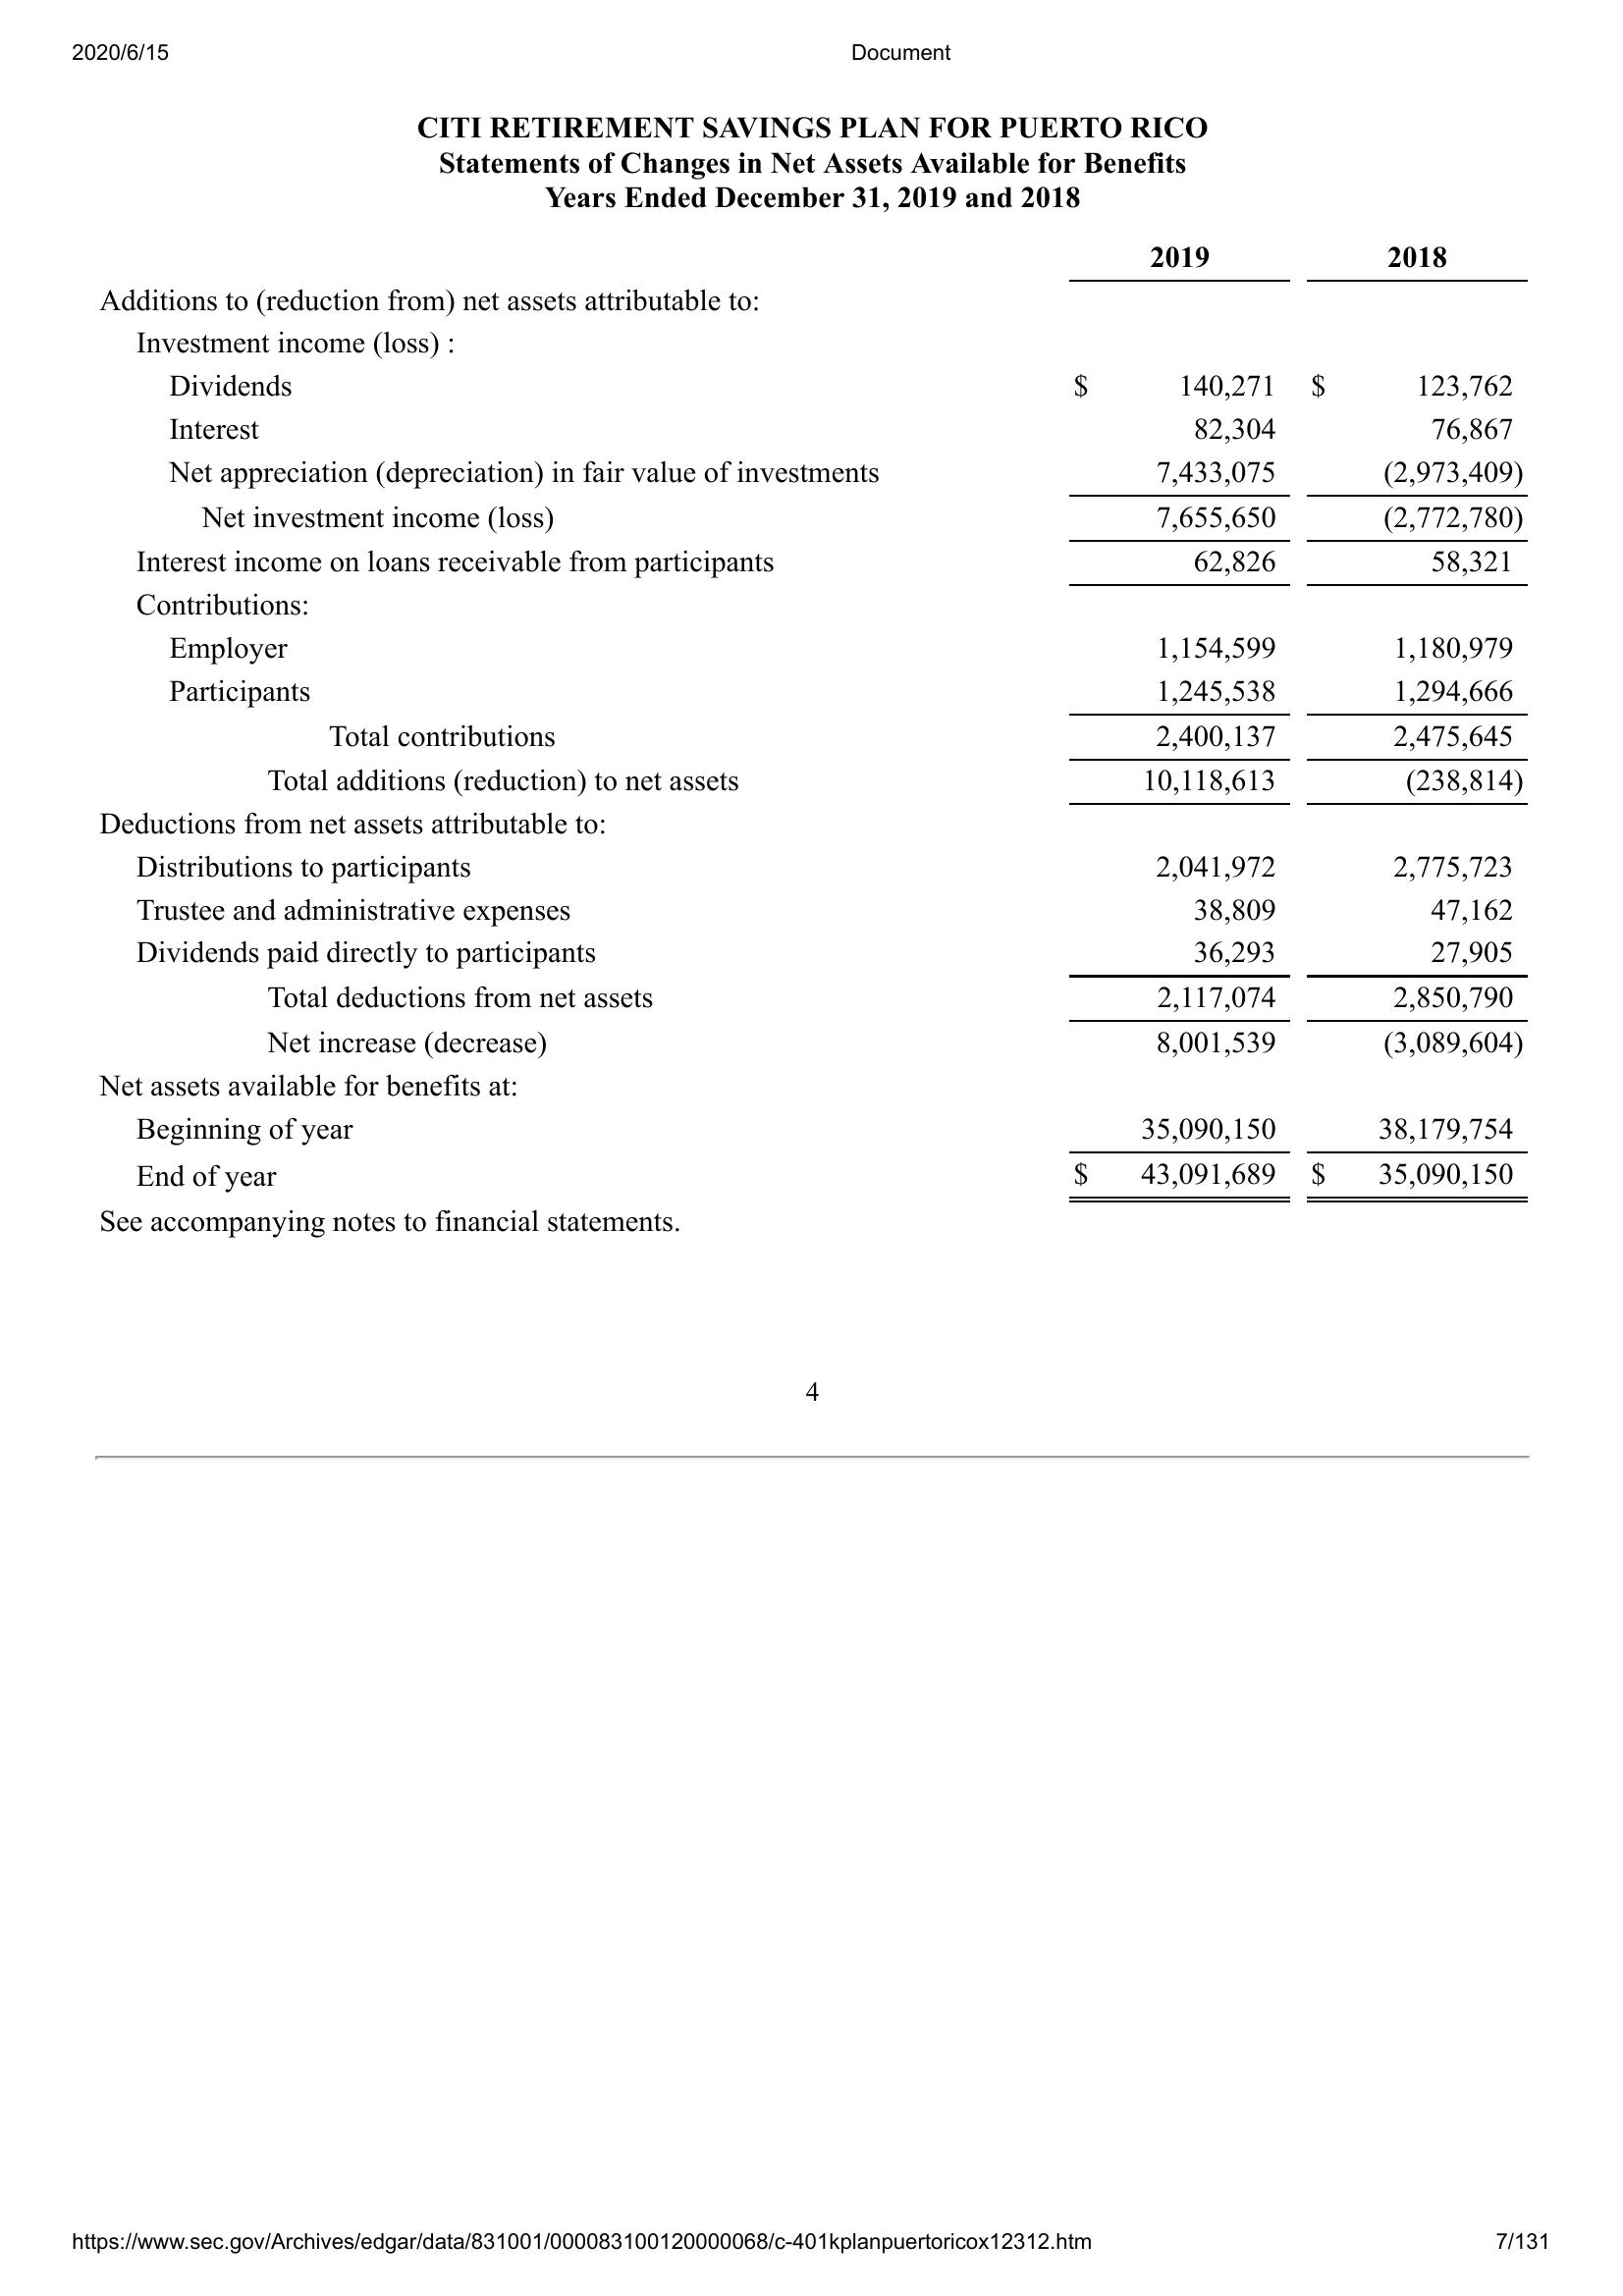table: (95, 244, 1535, 1216)
